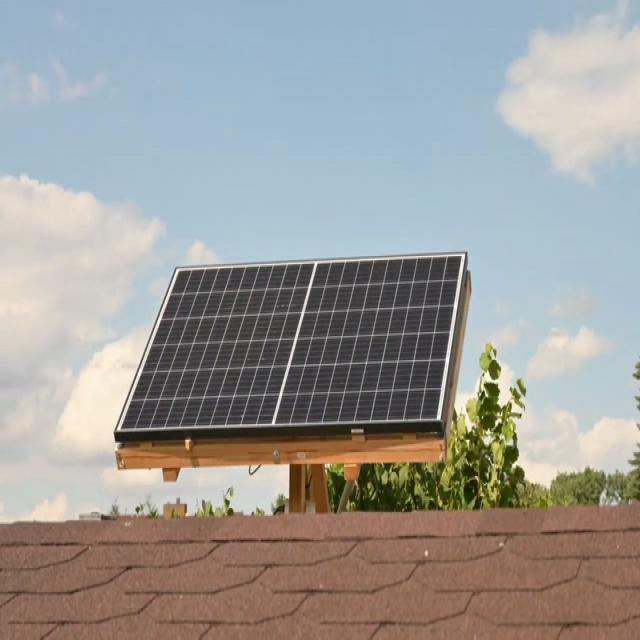Normal Solar Panel: (117, 255, 466, 441)
